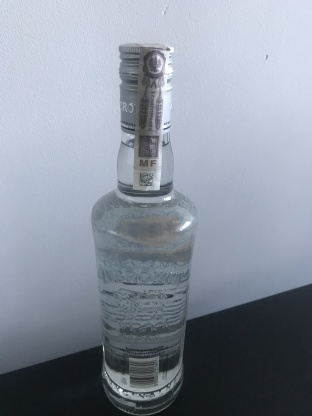nakretka: (116, 38, 176, 136)
